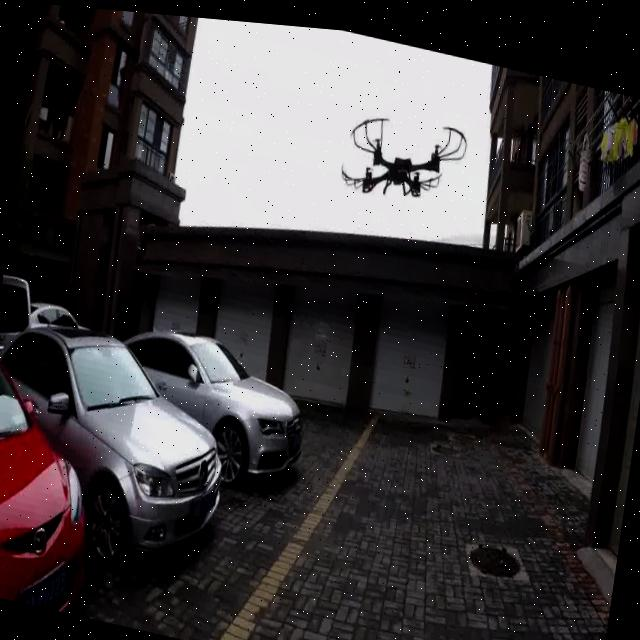drone: (318, 82, 476, 235)
